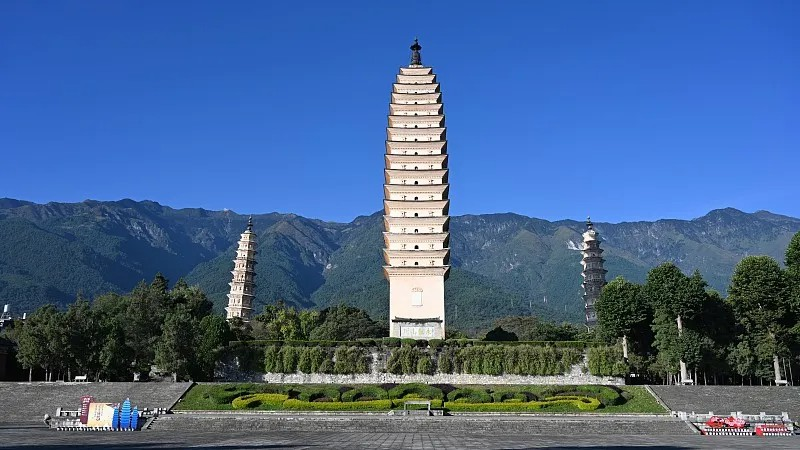ThreePagoda: (382, 35, 450, 339)
